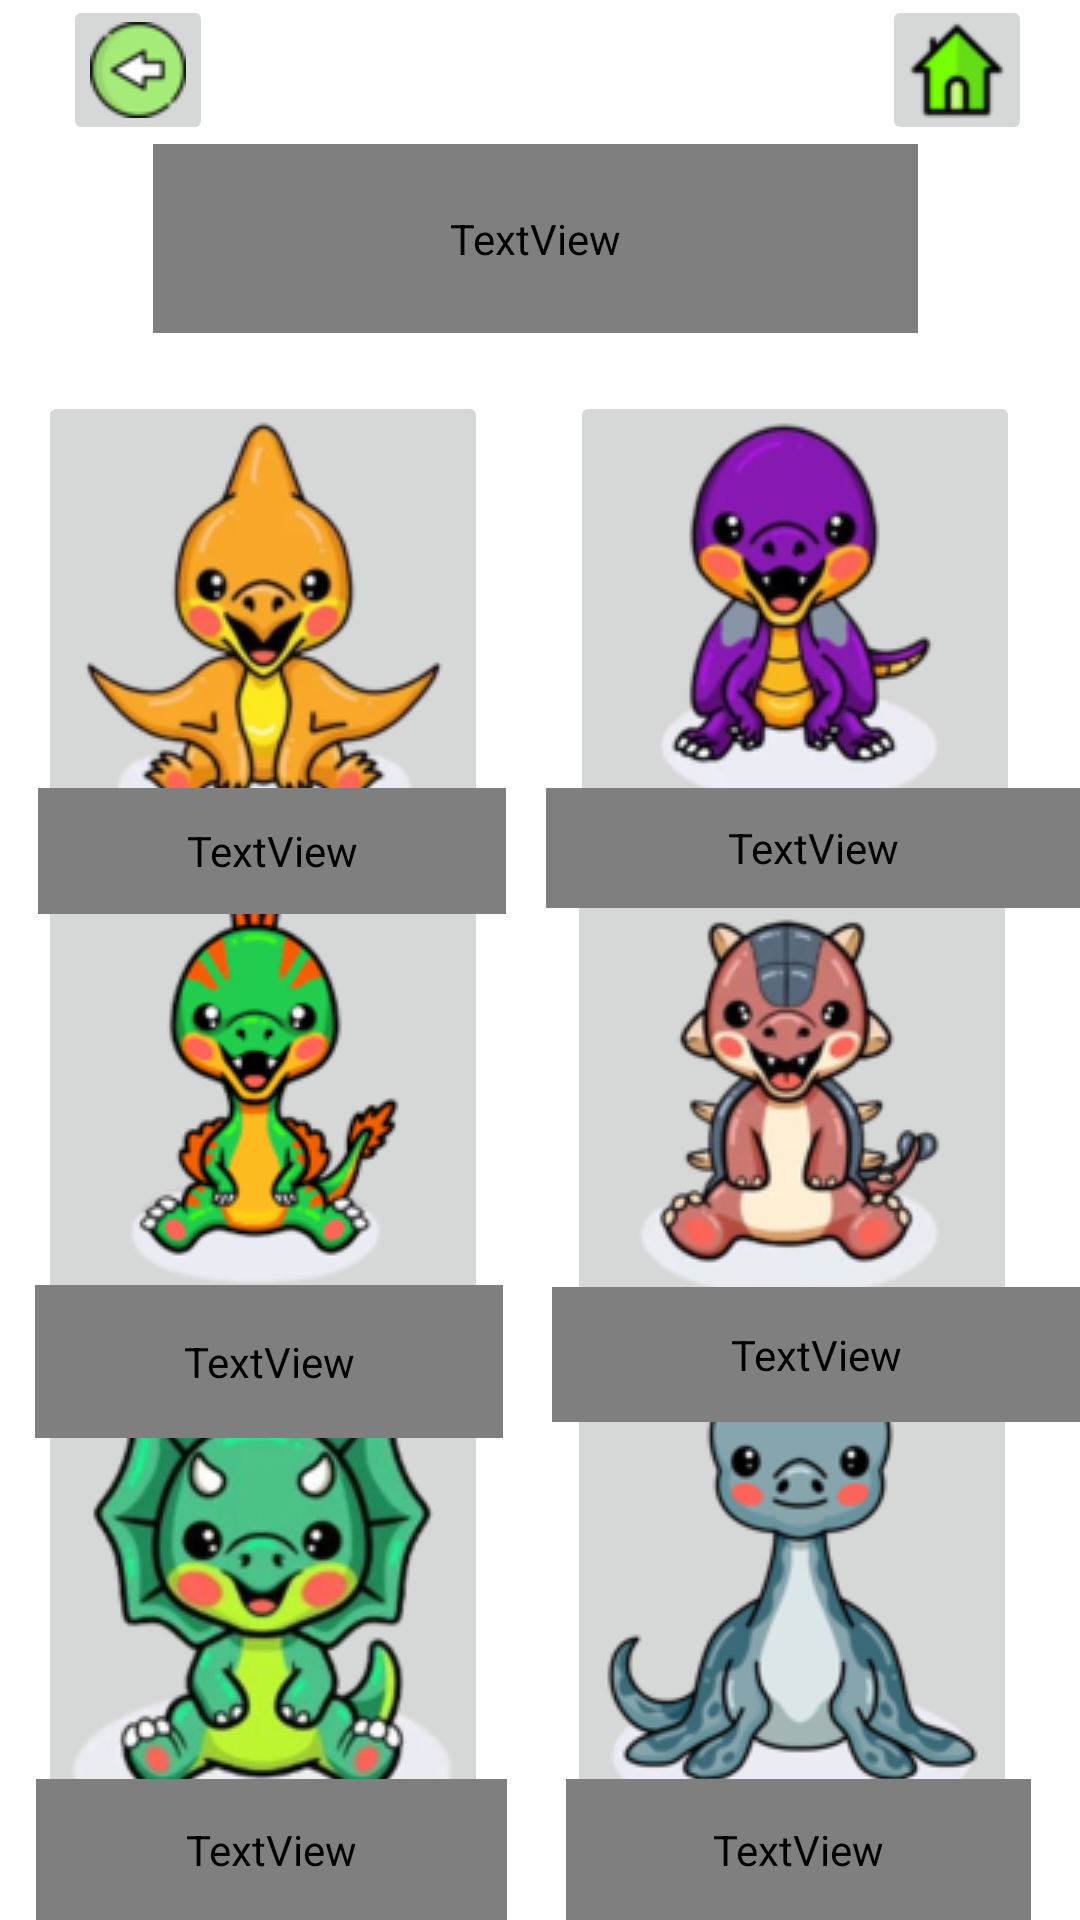

Point at icon controls on the screen. Image size 1080px×1920px, points as (x=x, y=y).
arrow: (x=138, y=70)
home: (x=957, y=70)
